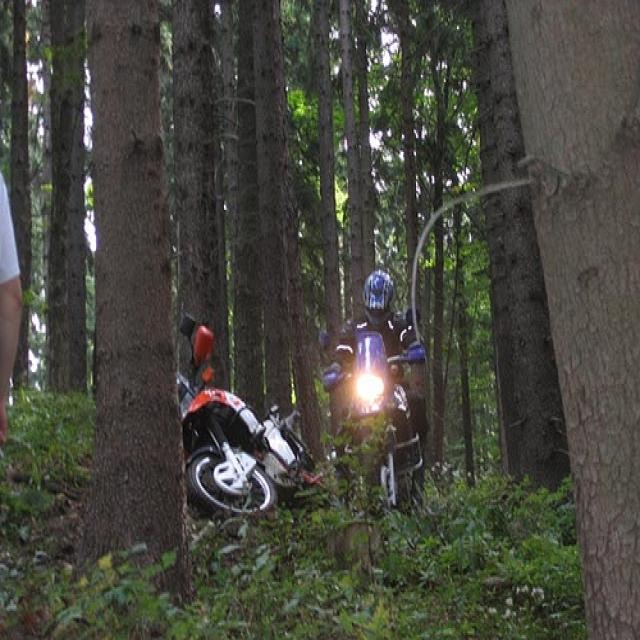motorbike: (151, 319, 333, 524), (314, 266, 438, 519)
